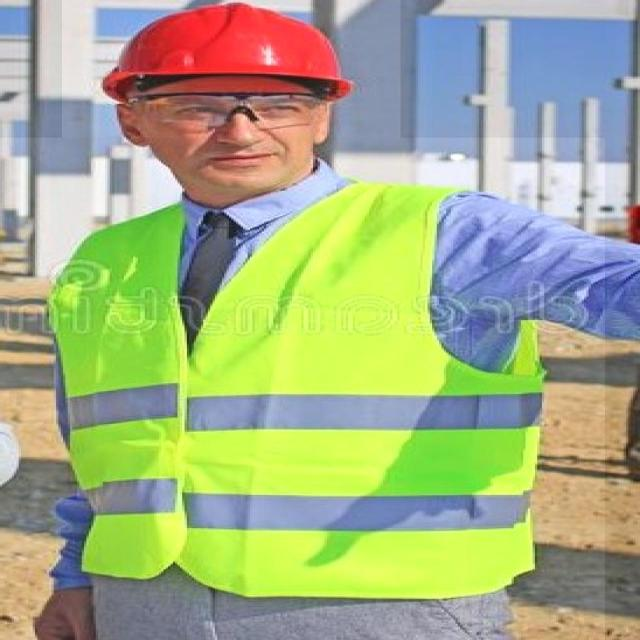Helmet: (0, 138, 605, 640), (62, 0, 400, 201)
